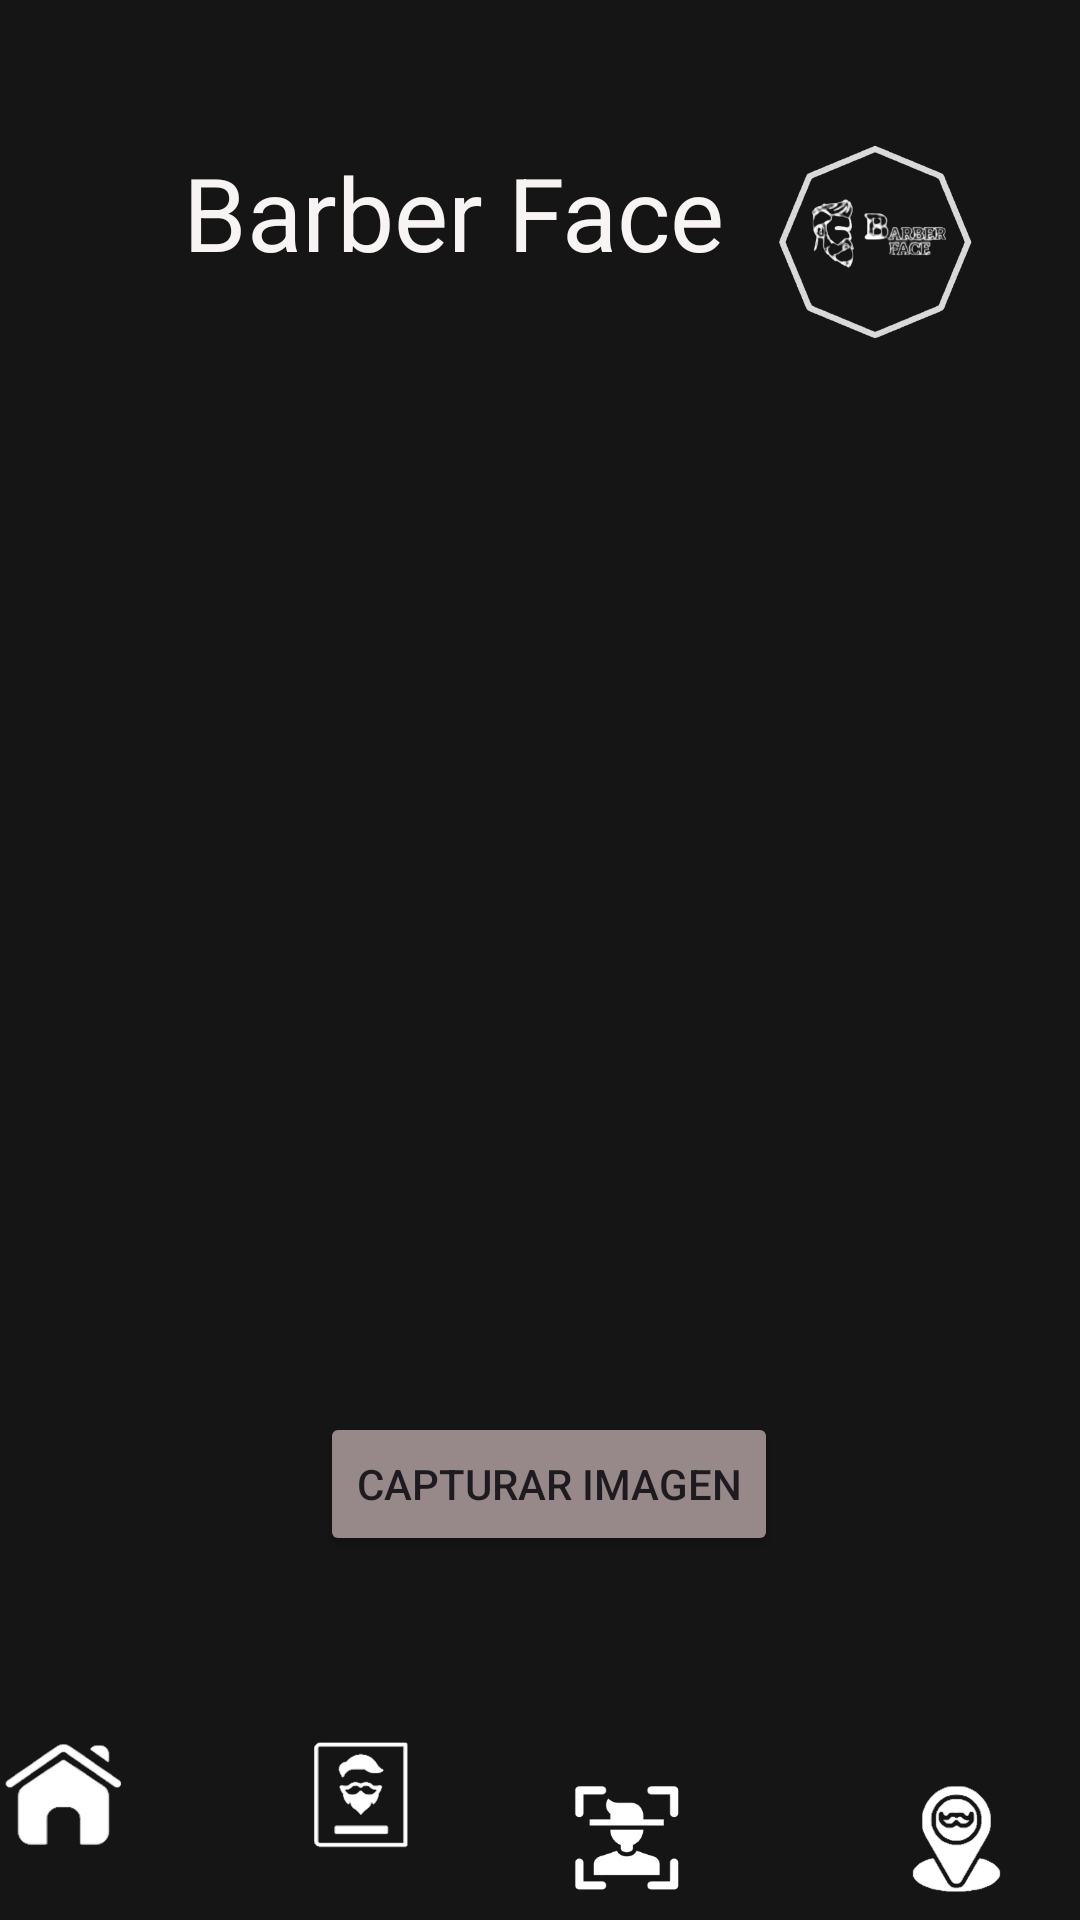

Icon click points for this 1080w x 1920h phone screenshot, format [x,y]:
inicio: [63,1794]
ubicacion: [956,1839]
